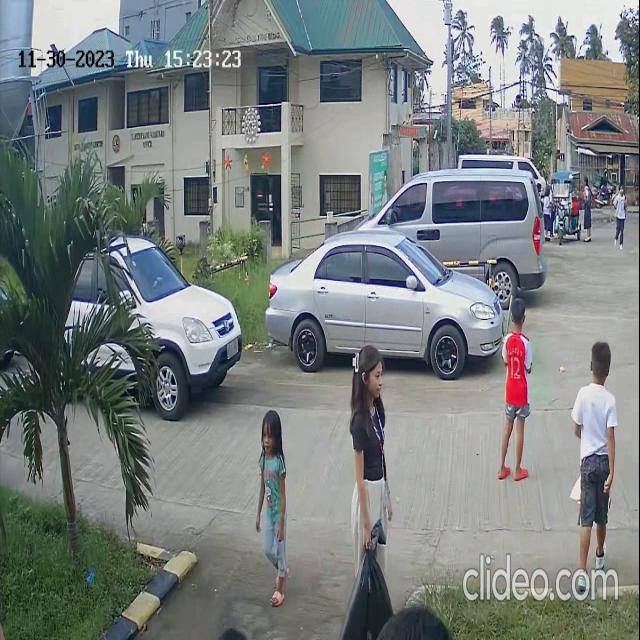garbage: (337, 531, 395, 640)
person: (566, 338, 621, 563), (341, 342, 393, 526), (250, 406, 296, 608), (500, 298, 529, 482), (610, 182, 630, 251), (580, 176, 596, 244)
